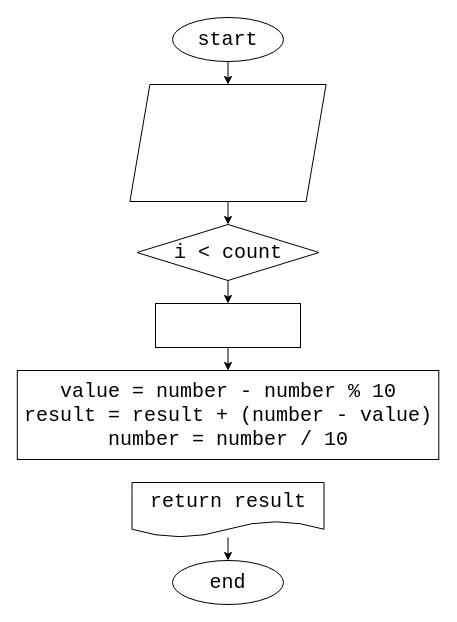
Some shapes in this 457 by 622 pixel diagram are drawn without their labels. The centre of each missing label's shape, as x and y in pixels:
i = i + 1: pixel 227 325
number count value = 0 result = 0 i = 0: pixel 227 143
